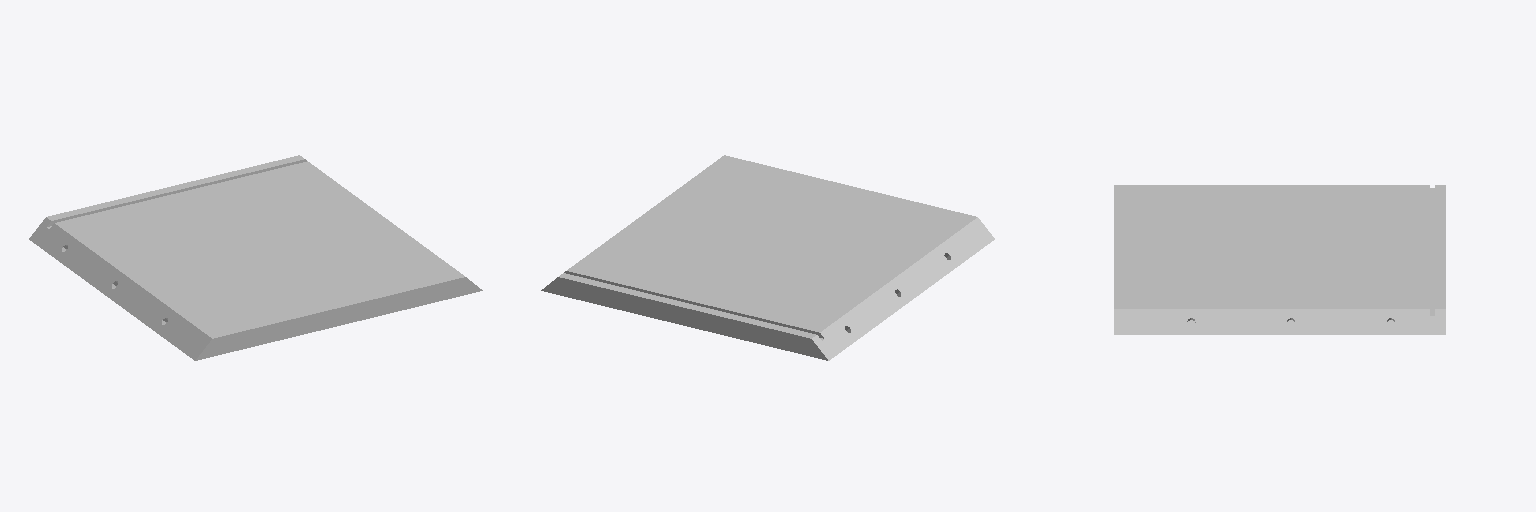
The model's file is bottom.obj.
The picture shows the model from 3 angles: view 1: azimuth 30°, elevation 25°; view 2: azimuth 150°, elevation 25°; view 3: azimuth 270°, elevation 25°; orthographic projection.
Visible parts, largest first — view 1: 1; view 2: 1; view 3: 1.
Boxes of the visible parts, <box> form: 1: <box>29,155,482,360</box>; 1: <box>541,155,994,360</box>; 1: <box>1114,185,1445,334</box>.
Bounding box in the file's own units: 300 × 18 × 300.